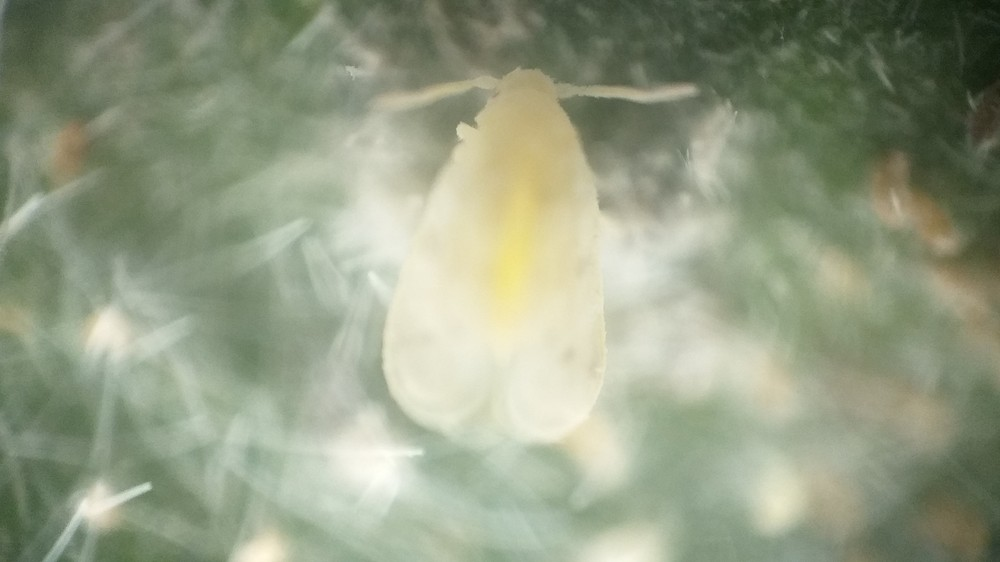Mosca Blanca: (330, 37, 709, 469)
